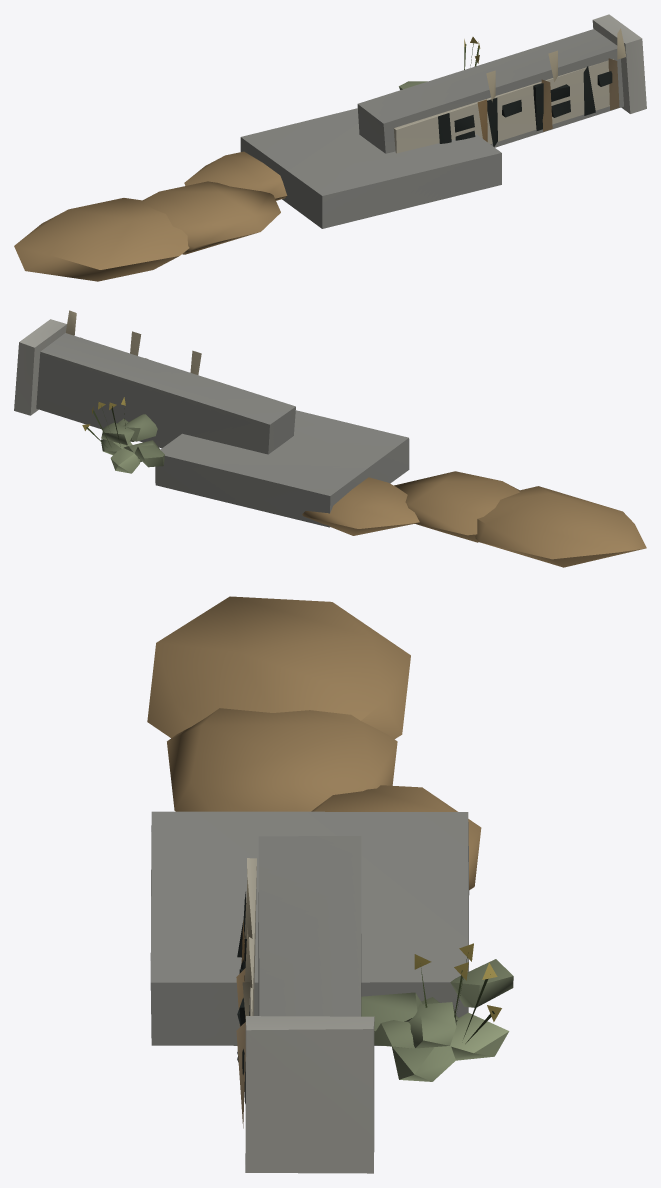
File: flood_staff_c_lod2.glb
3 views of the same model, one above another, from view 1: azimuth 30°, elevation 25°; view 2: azimuth 150°, elevation 25°; view 3: azimuth 270°, elevation 25° (orthographic). The views are drawn at different scales.
Parts seen in each view (by area): view 1: Surface.001; view 2: Surface.001; view 3: Surface.001.
Part boxes in pixels (x1=…): Surface.001: x1=14, y1=14, x2=646, y2=281; Surface.001: x1=14, y1=310, x2=646, y2=567; Surface.001: x1=147, y1=596, x2=513, y2=1173.
Bounding box in the file's own units: 9.7 × 1.77 × 2.55.
